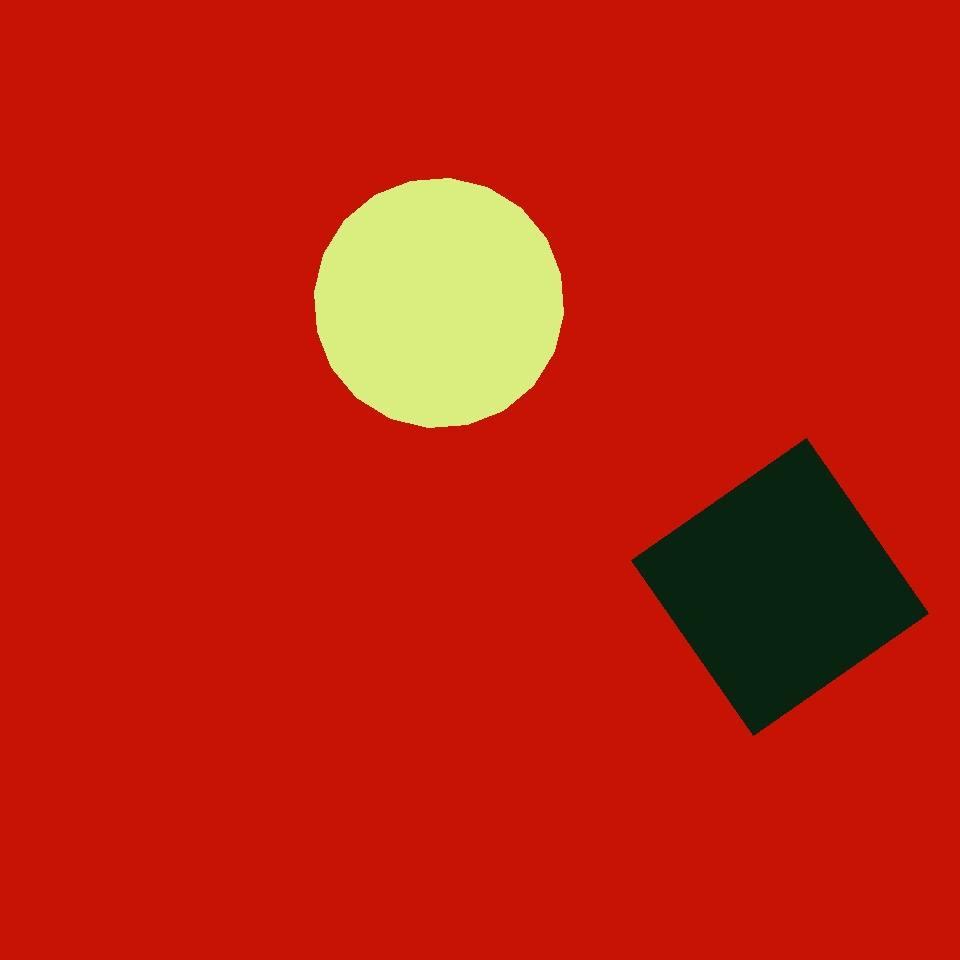circle: (542, 246, 636, 338)
square: (632, 438, 928, 736), (512, 302, 775, 565), (802, 802, 919, 919)
triangle: (314, 178, 564, 428), (587, 107, 715, 235)
